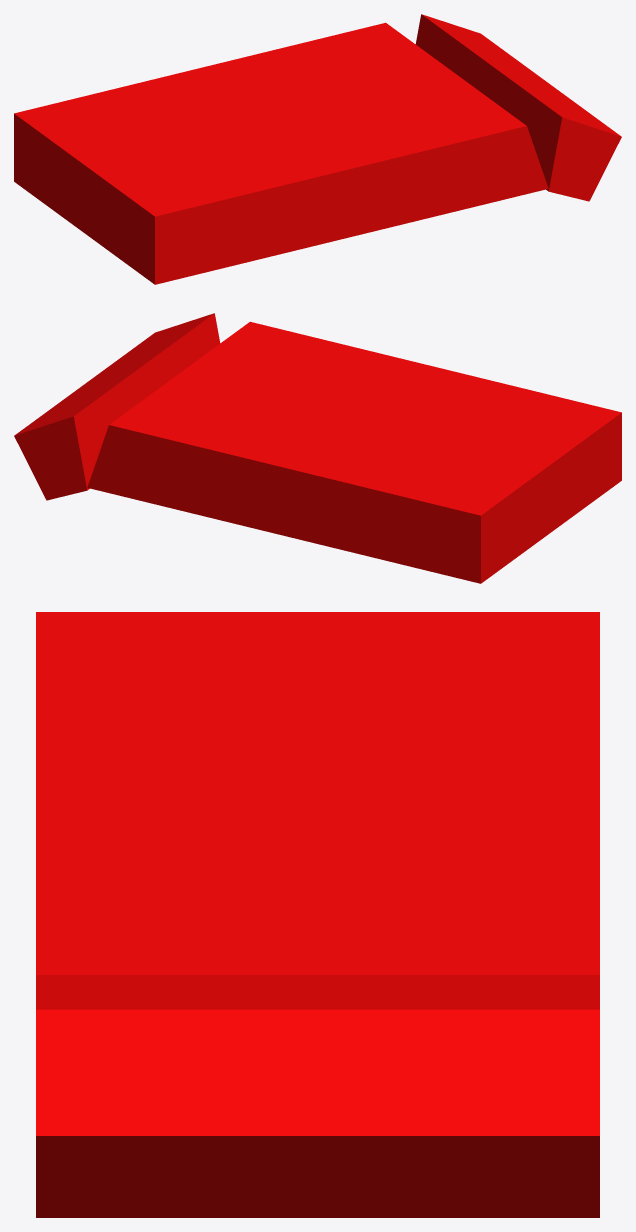
Rendered from nil_link_mesh.dae.
3 renders of one model, top to bottom at view 1: azimuth 30°, elevation 25°; view 2: azimuth 150°, elevation 25°; view 3: azimuth 270°, elevation 25°, orthographic. The views are drawn at different scales.
Visible parts, largest first — view 1: nil_link (×2); view 2: nil_link (×2); view 3: nil_link (×2).
Part boxes in pixels (box(x1,y1,x2,y2)): nil_link (×2): box(14, 14, 621, 284); nil_link (×2): box(14, 313, 621, 583); nil_link (×2): box(36, 612, 599, 1217).
Bounding box in the file's own units: 0.172 × 0.032 × 0.09.
